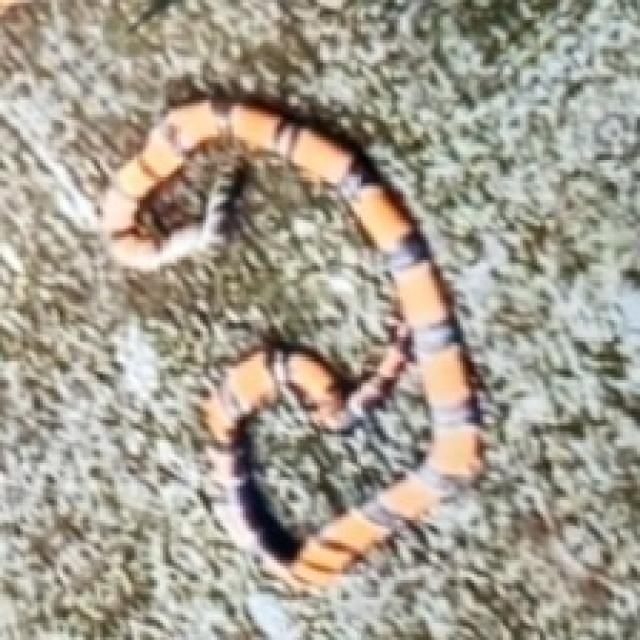barredcoral snake: (103, 97, 483, 589), (249, 366, 431, 534)
